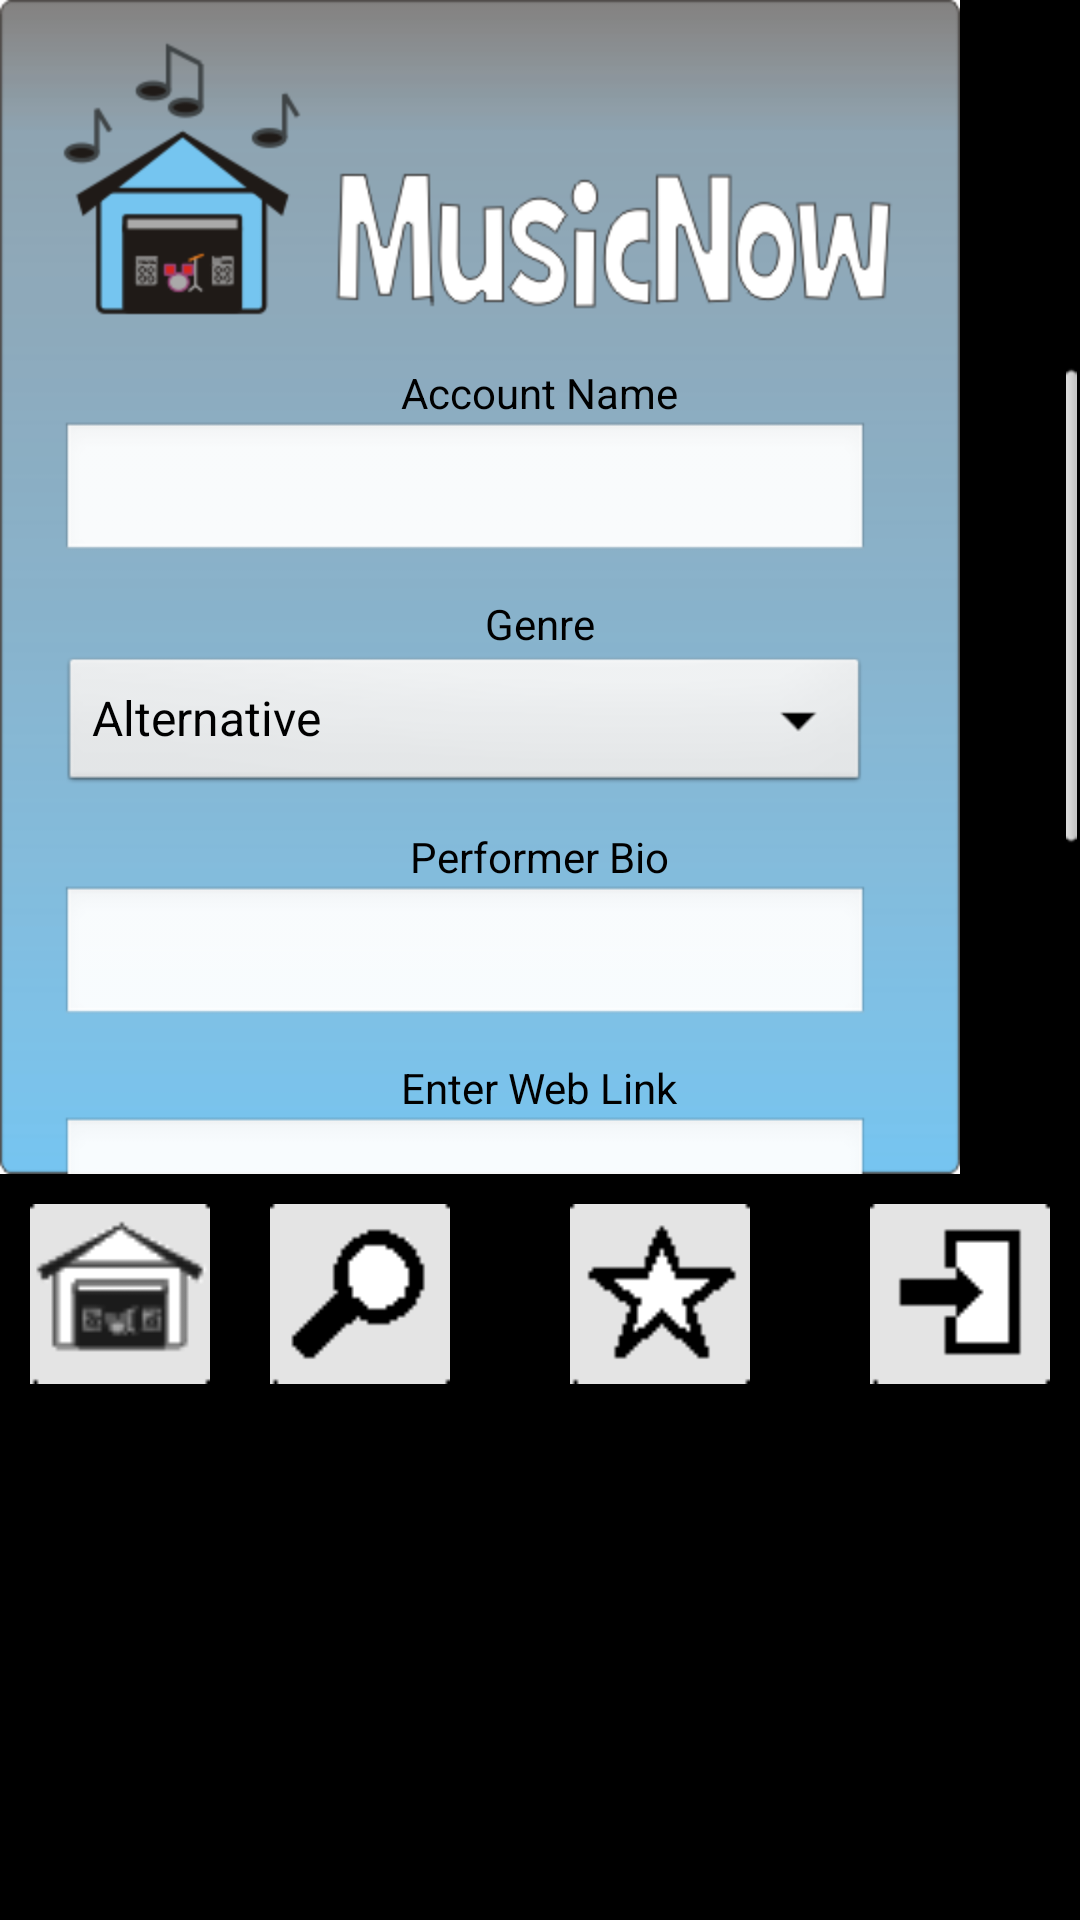

Named icons in this screenshot (1080 × 1920) and their bounding boxes, (x1,y1,x2,y2):
Favorites: (570,1204,750,1384)
garage: (30,1204,210,1384)
Login: (870,1204,1050,1384)
Search Button: (270,1204,450,1384)
